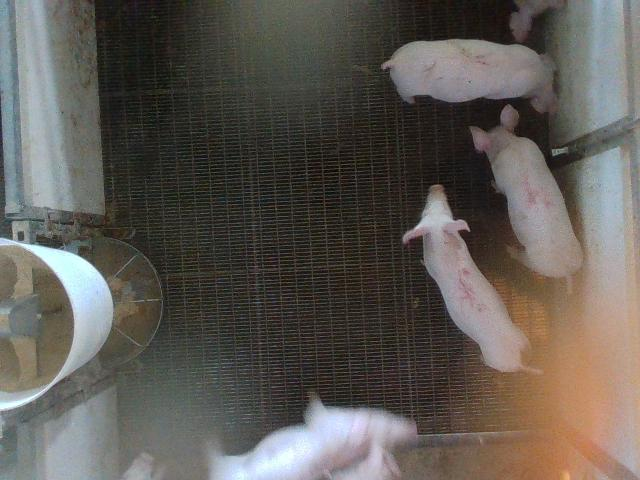pig-4: (470, 105, 582, 291)
pig-5: (402, 185, 530, 372)
